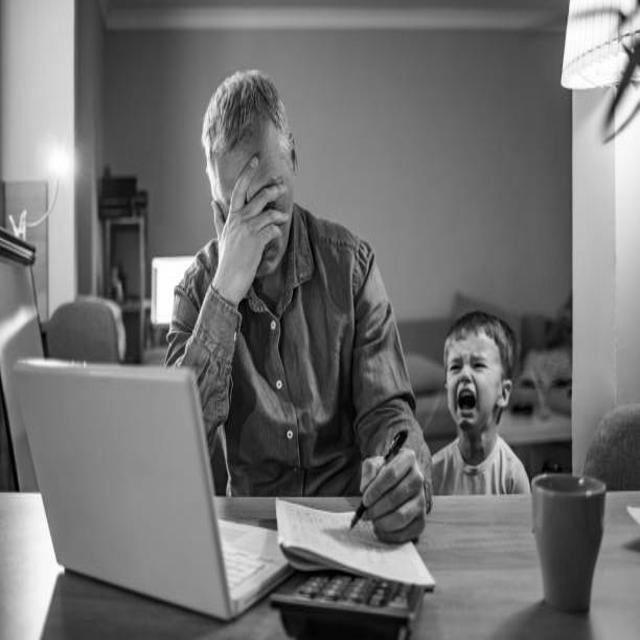Sadness: (445, 334, 504, 432)
